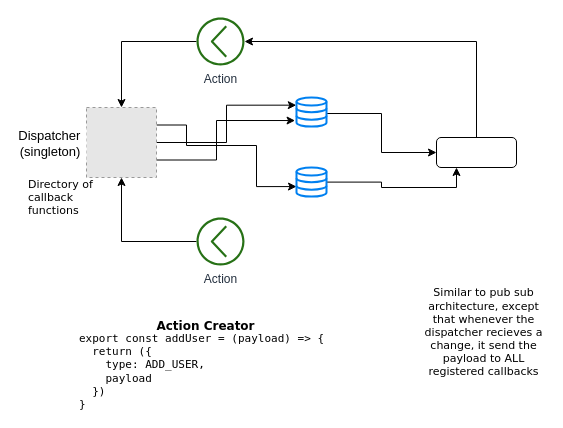
The diagram is 563 pixels wide and 428 high, and some of its shapes have lost their labels. Grey dashed boxes stand in for pictures. The shapes that lost their labels are listed below. From the top down, each one's centre as x and y in pixels, then its label:
At point 311,111: "Stores with Callbacks".
At point 476,152: "Views".
